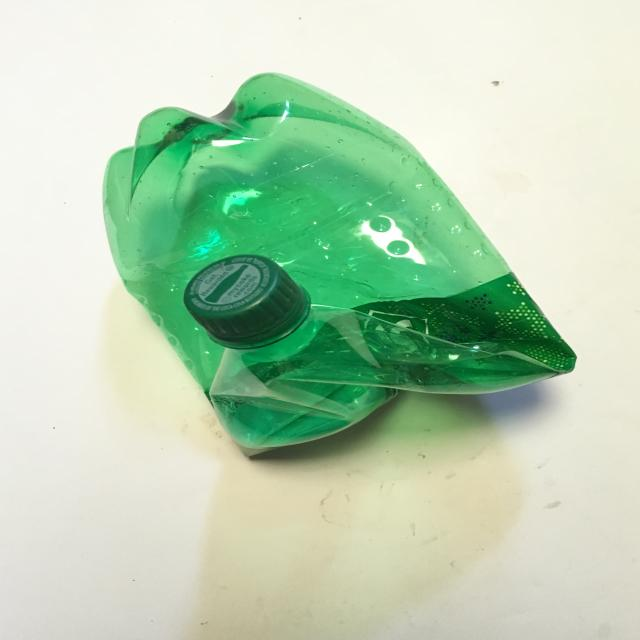plastic: (101, 71, 577, 453)
